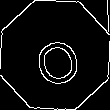O_N: (26, 24, 84, 86)
